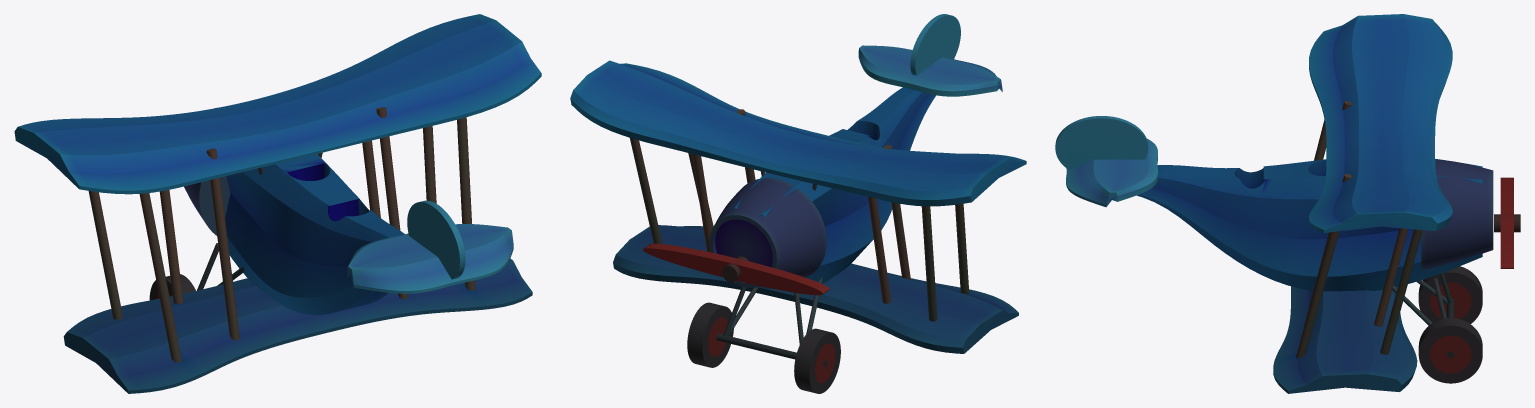
3 renders of one model, left to right at view 1: azimuth 30°, elevation 25°; view 2: azimuth 150°, elevation 25°; view 3: azimuth 270°, elevation 25°, orthographic. The views are drawn at different scales.
Parts seen in each view (by area): view 1: wing, wing.001, body, tailplane, fin, post.002, post, post.001, post.004, post.003, cowl, post.006 (+2 smaller); view 2: wing, wing.001, cowl, body, tailplane, blades, fin, tire, tire.001, post.001, post.005, post.003 (+6 smaller); view 3: wing, body, wing.001, cowl, fin, tailplane, tire.001, tire, blades, hub.002, post.004, post.005 (+2 smaller).
Part boxes in pixels (bbox=[...]): wing: bbox=[14, 14, 541, 194]; wing.001: bbox=[63, 258, 532, 393]; body: bbox=[225, 154, 404, 315]; tailplane: bbox=[347, 224, 513, 293]; fin: bbox=[407, 200, 465, 279]; post.002: bbox=[206, 148, 239, 340]; post: bbox=[139, 193, 181, 362]; post.001: bbox=[88, 191, 122, 319]; post.004: bbox=[457, 117, 475, 290]; post.003: bbox=[159, 190, 183, 303]; cowl: bbox=[184, 107, 230, 235]; post.006: bbox=[376, 107, 407, 299]; wing: bbox=[570, 60, 1026, 206]; wing.001: bbox=[613, 225, 1018, 353]; cowl: bbox=[709, 178, 826, 287]; body: bbox=[732, 87, 935, 289]; tailplane: bbox=[858, 45, 1002, 96]; blades: bbox=[643, 243, 829, 295]; fin: bbox=[910, 14, 960, 75]; tire: bbox=[794, 328, 840, 393]; tire.001: bbox=[687, 302, 733, 367]; post.001: bbox=[921, 206, 937, 321]; post.005: bbox=[630, 138, 662, 243]; post.003: bbox=[868, 197, 890, 303]; wing: bbox=[1309, 14, 1452, 232]; body: bbox=[1137, 159, 1482, 291]; wing.001: bbox=[1273, 286, 1417, 393]; cowl: bbox=[1421, 159, 1493, 270]; fin: bbox=[1055, 116, 1148, 170]; tailplane: bbox=[1066, 138, 1157, 207]; tire.001: bbox=[1418, 318, 1482, 383]; tire: bbox=[1418, 266, 1482, 323]; blades: bbox=[1500, 177, 1513, 268]; hub.002: bbox=[1430, 335, 1471, 373]; post.004: bbox=[1296, 231, 1339, 358]; post.005: bbox=[1380, 229, 1422, 354].
Bounding box in the file's own units: 7.8 × 4.39 × 7.72.
